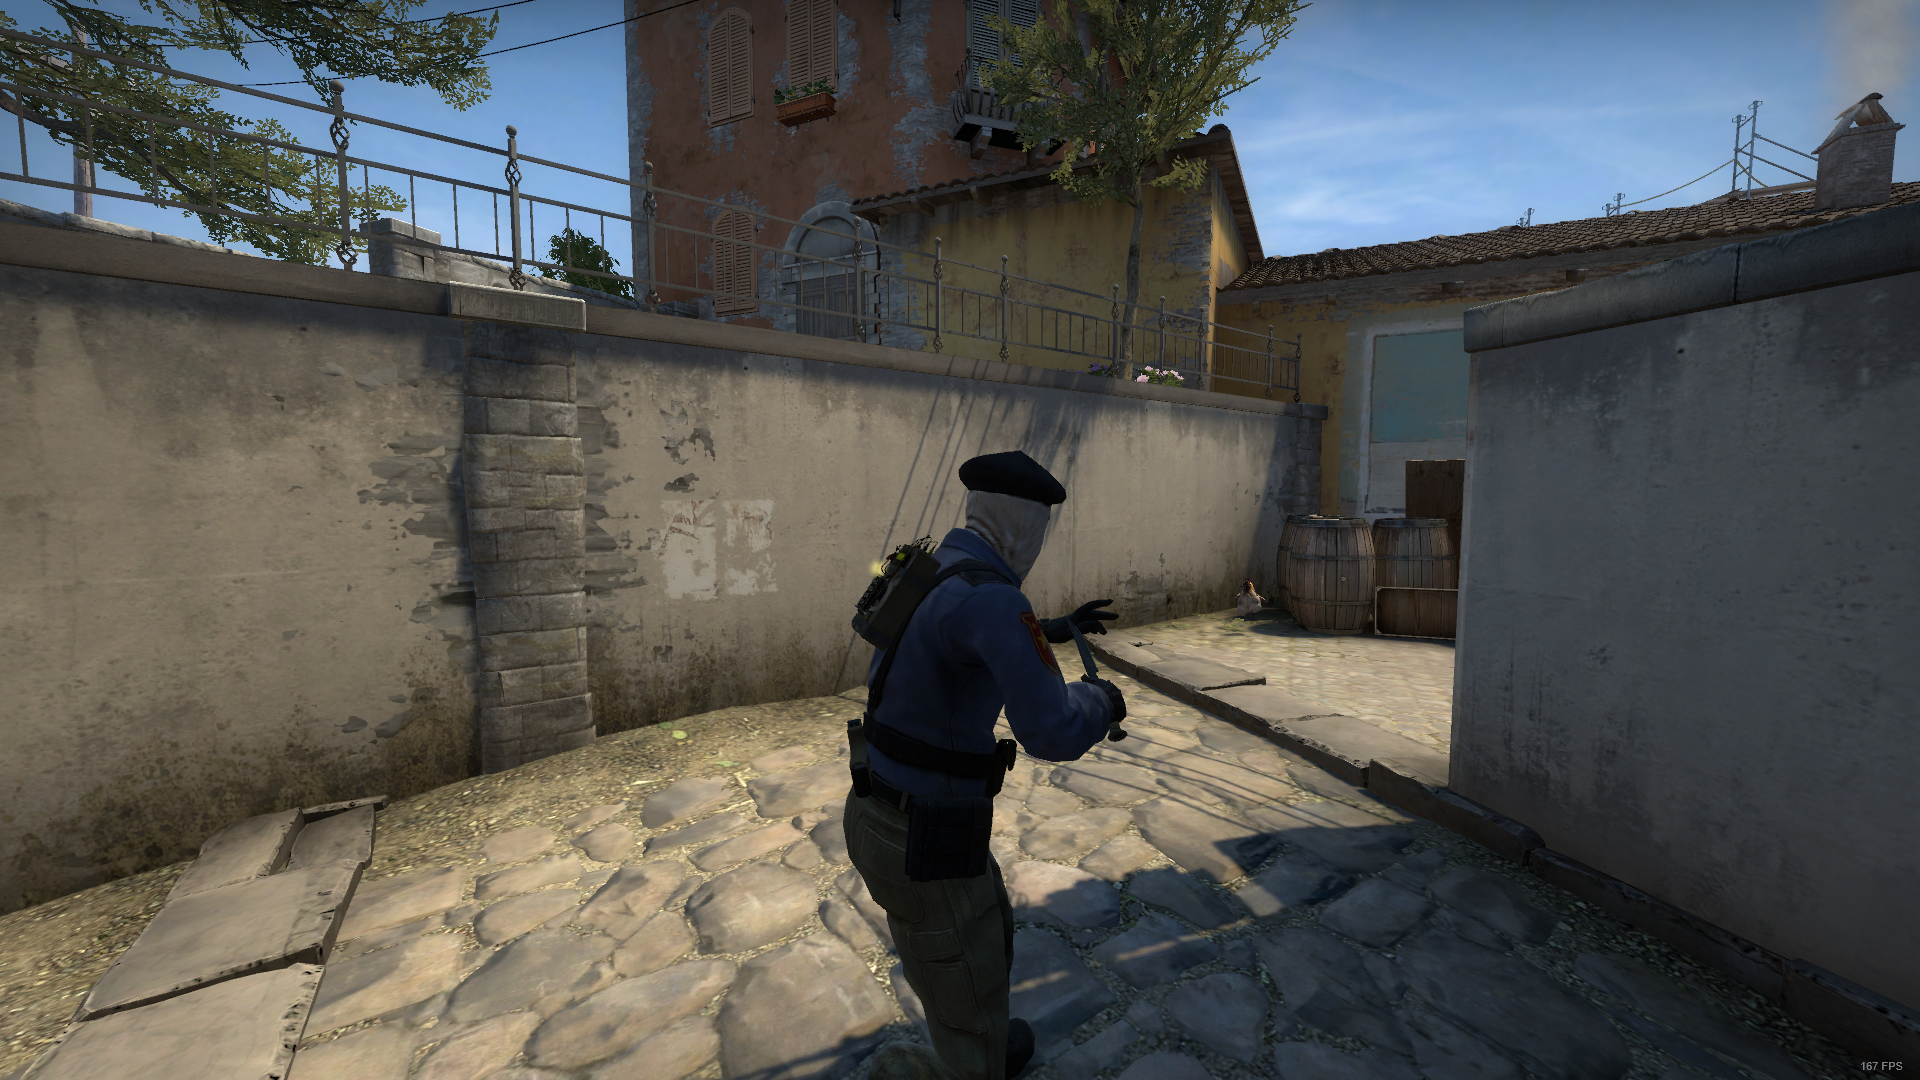t: (799, 433, 1124, 1080)
